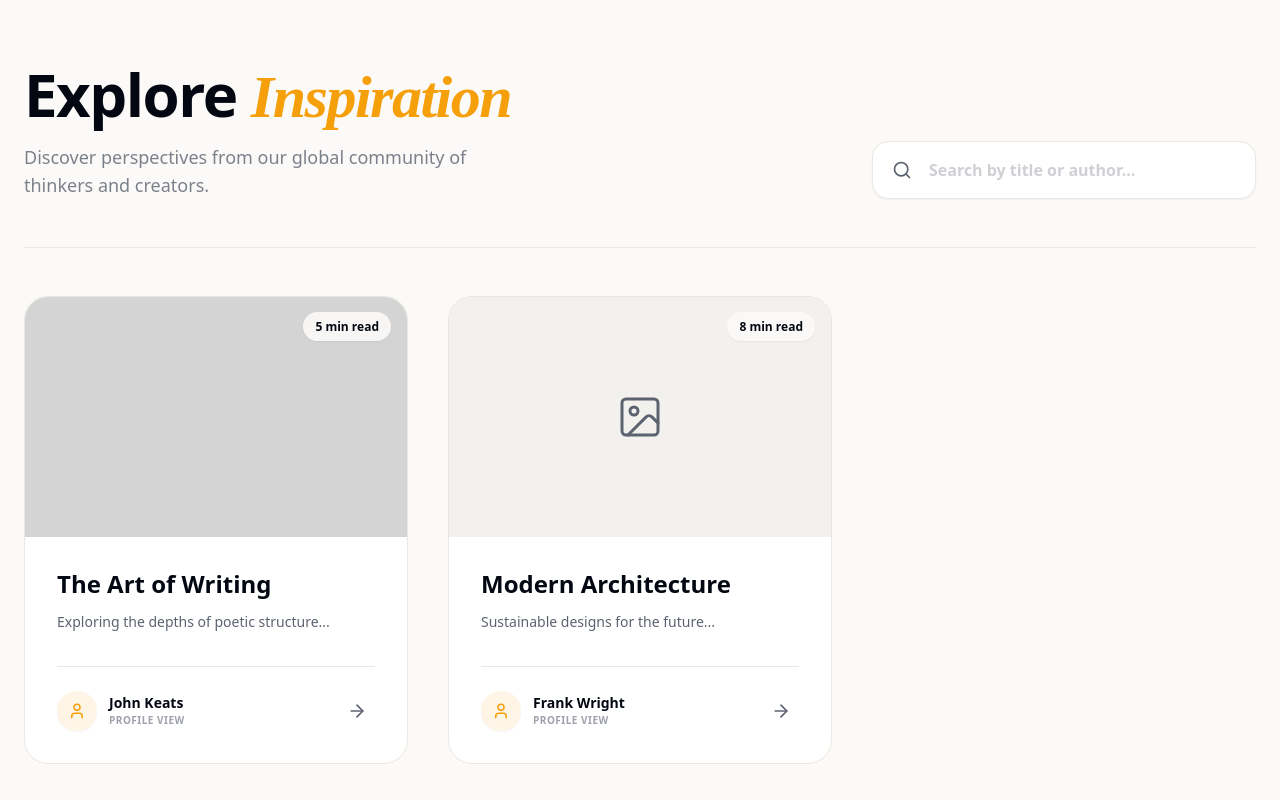
Test: Browse Page › filters posts based on search input
Check: the heading "The Art of Writing" is shown, box [57,567,272,600]
Step 1. Type "Keats" into the field with placeholder "Search by title or author..." → (1064, 170), box [872,141,1256,199]
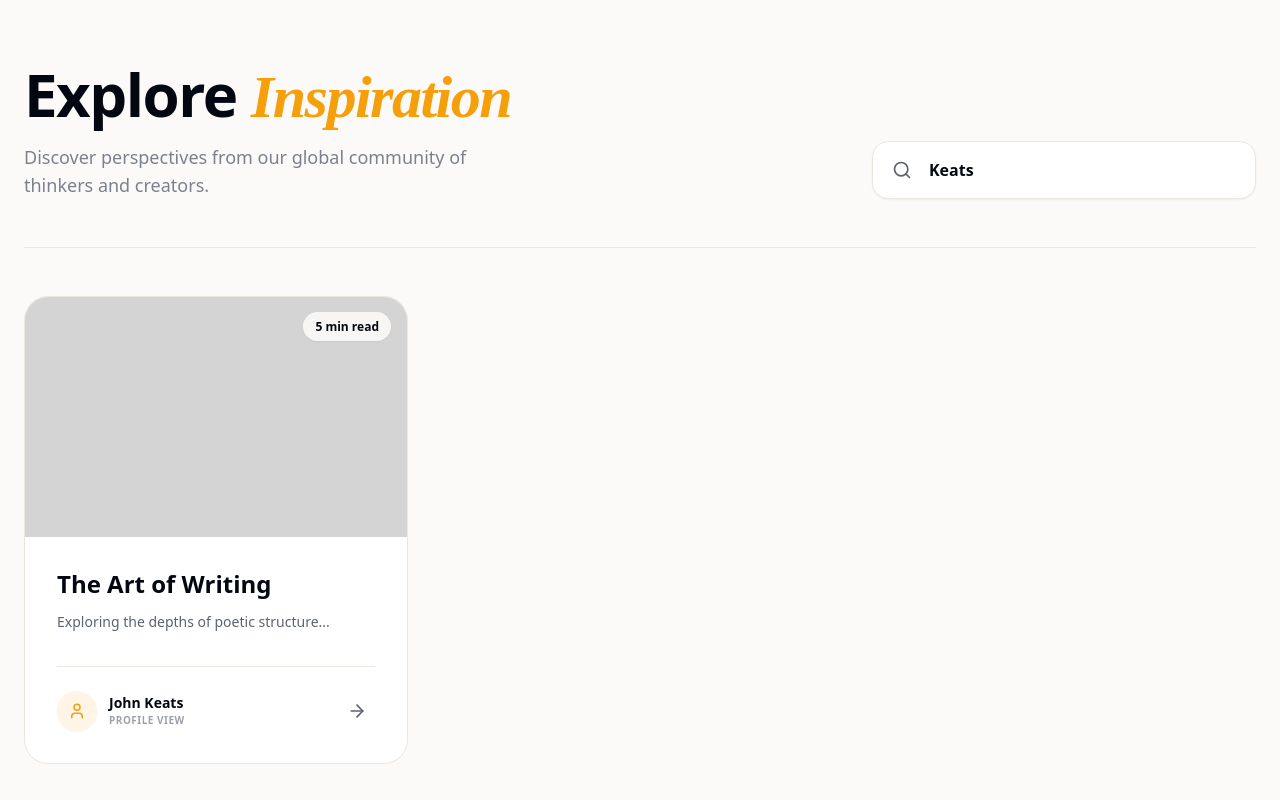
Check: the heading "The Art of Writing" is shown, box [57,567,272,600]
Check: the link "Modern Architecture" is gone
